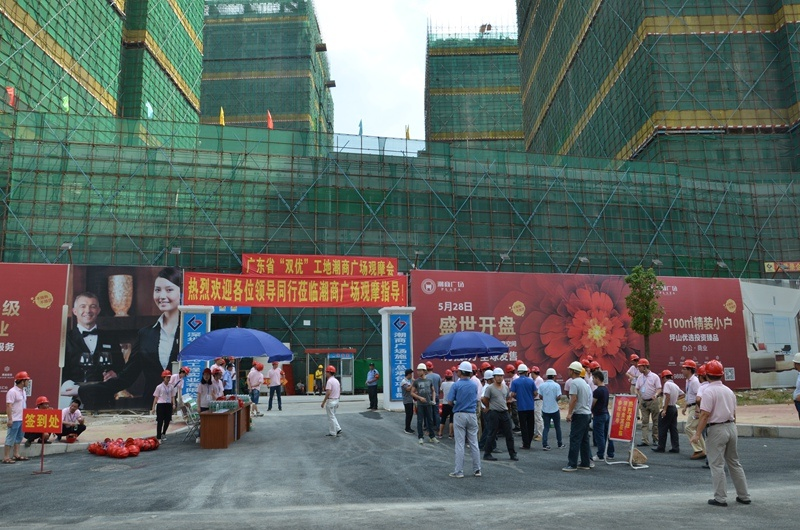none: (153, 268, 180, 314), (71, 291, 101, 326), (591, 371, 605, 386), (68, 399, 81, 412), (403, 369, 413, 380), (226, 364, 233, 371), (369, 363, 374, 369)
red: (705, 359, 725, 383), (14, 370, 31, 388), (681, 358, 696, 378), (637, 358, 650, 374), (36, 396, 50, 409), (697, 365, 706, 383), (160, 370, 172, 383), (201, 368, 212, 382), (529, 365, 540, 379), (178, 366, 190, 378), (324, 365, 336, 377), (661, 369, 673, 381), (589, 361, 600, 372), (212, 367, 222, 379), (506, 364, 515, 377), (629, 353, 638, 366), (444, 369, 454, 380), (481, 362, 491, 373), (425, 360, 433, 372), (470, 364, 478, 376), (255, 362, 264, 371), (581, 359, 589, 369), (215, 357, 223, 365), (271, 361, 279, 368), (228, 356, 235, 362)
white: (458, 360, 472, 379), (568, 360, 582, 377), (492, 368, 504, 383), (482, 369, 493, 384), (416, 363, 427, 377), (792, 352, 800, 371), (545, 367, 556, 380), (517, 364, 528, 376)
yellow: (317, 364, 323, 370)
